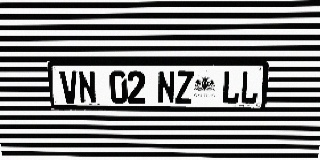0: (109, 71, 127, 104)
2: (127, 71, 145, 104)
L: (239, 71, 260, 104), (221, 71, 241, 104)
N: (77, 71, 97, 103), (157, 71, 175, 104)
V: (59, 71, 79, 103)
Z: (175, 71, 194, 104)
